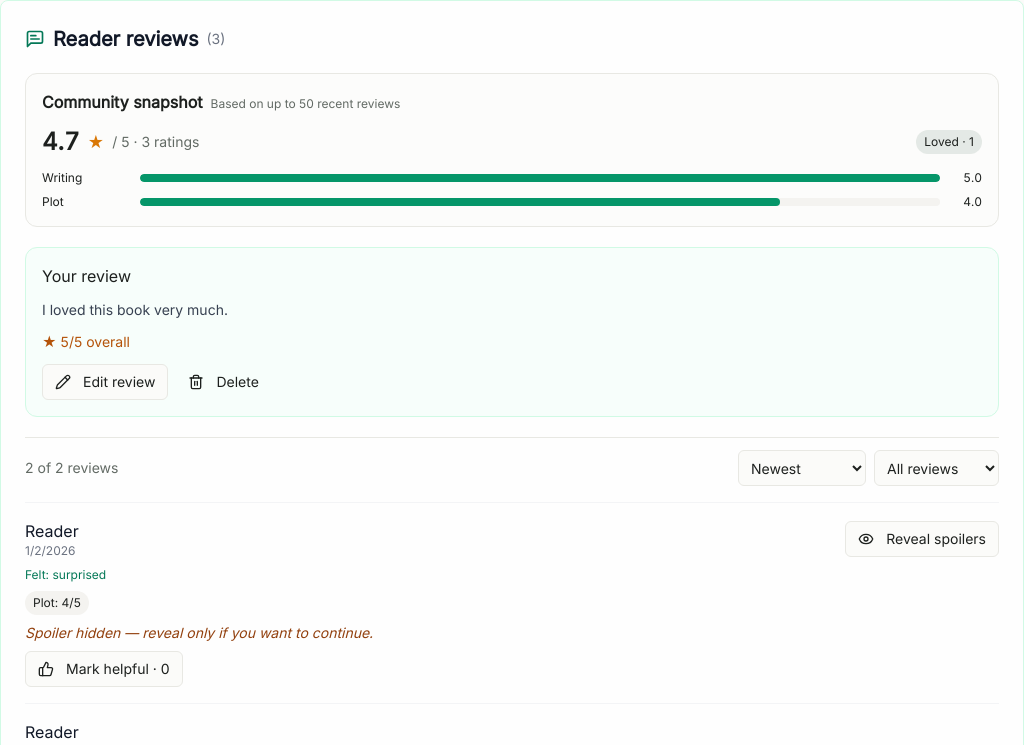
it: BookReviews › renders authenticated user review and allows editing
Check: the heading "Your review" is shown, box [42,266,131,286]
Check: the text "I loved this book very much." is shown, box [42,301,228,318]
Click the button "Edit review": (105,382) [42,364,168,400]
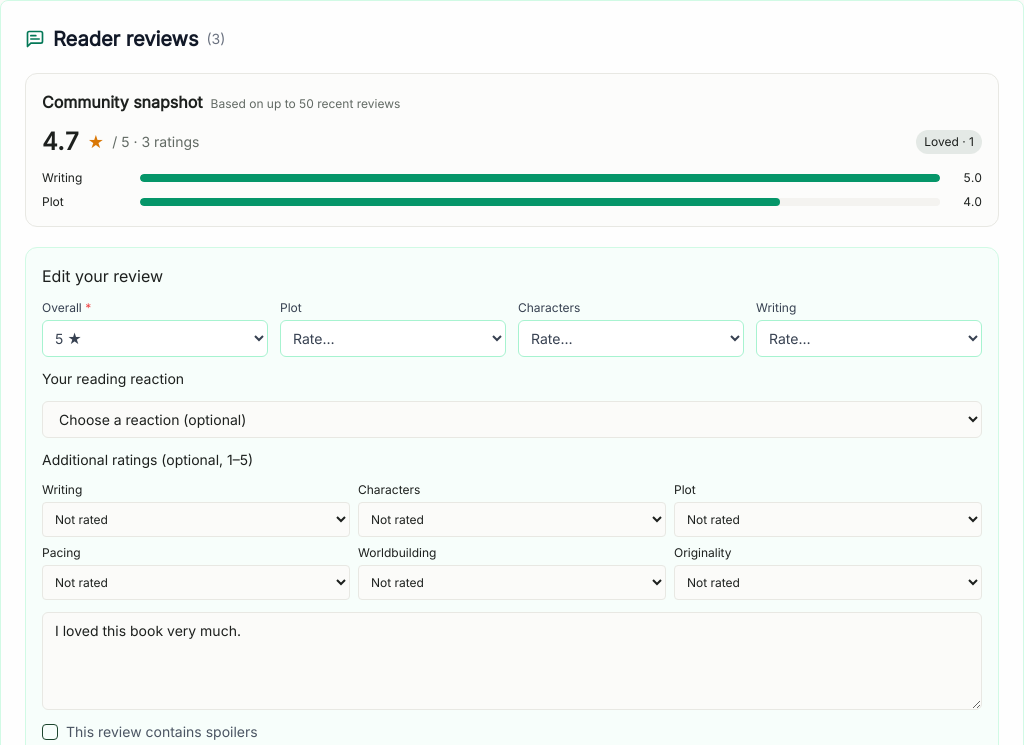
Check: the heading "Edit your review" is shown, box [42,266,163,286]
